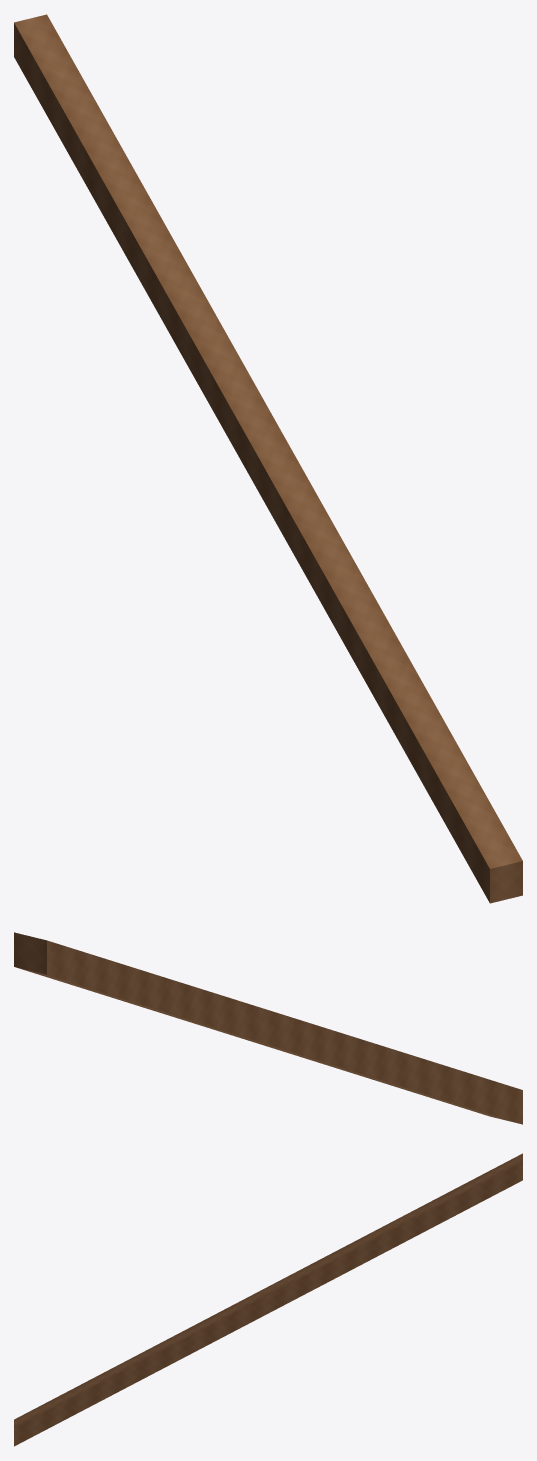
The model's file is MRP_Rafter_2m.fbx.
3 renders of one model, top to bottom at view 1: azimuth 30°, elevation 25°; view 2: azimuth 150°, elevation 25°; view 3: azimuth 270°, elevation 25°, orthographic. The views are drawn at different scales.
Visible parts, largest first — view 1: Body; view 2: Body; view 3: Body.
Boxes of the visible parts, x1,y1,x2,y2 form: Body: (14, 14, 522, 903); Body: (14, 932, 522, 1124); Body: (14, 1153, 522, 1446).
Size of the model in its own units: 0.08 by 1.23 by 2.
